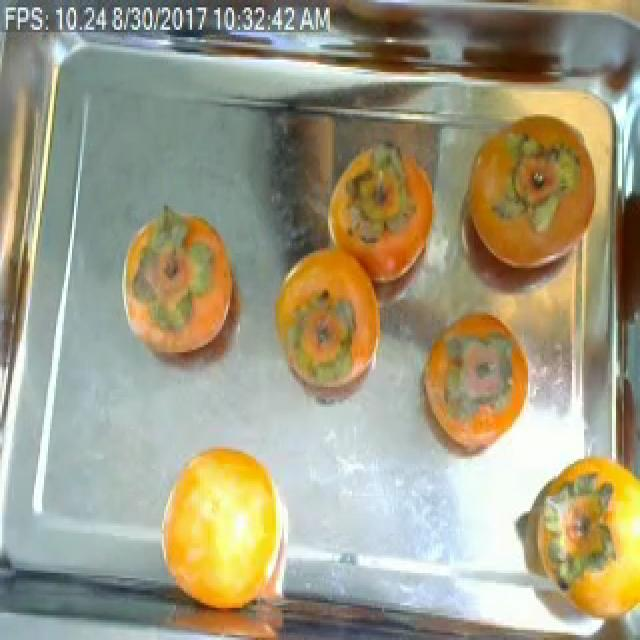Fruit: (146, 432, 292, 632), (316, 96, 454, 302), (508, 441, 640, 640), (262, 236, 390, 414), (114, 201, 244, 365), (408, 313, 540, 472)
